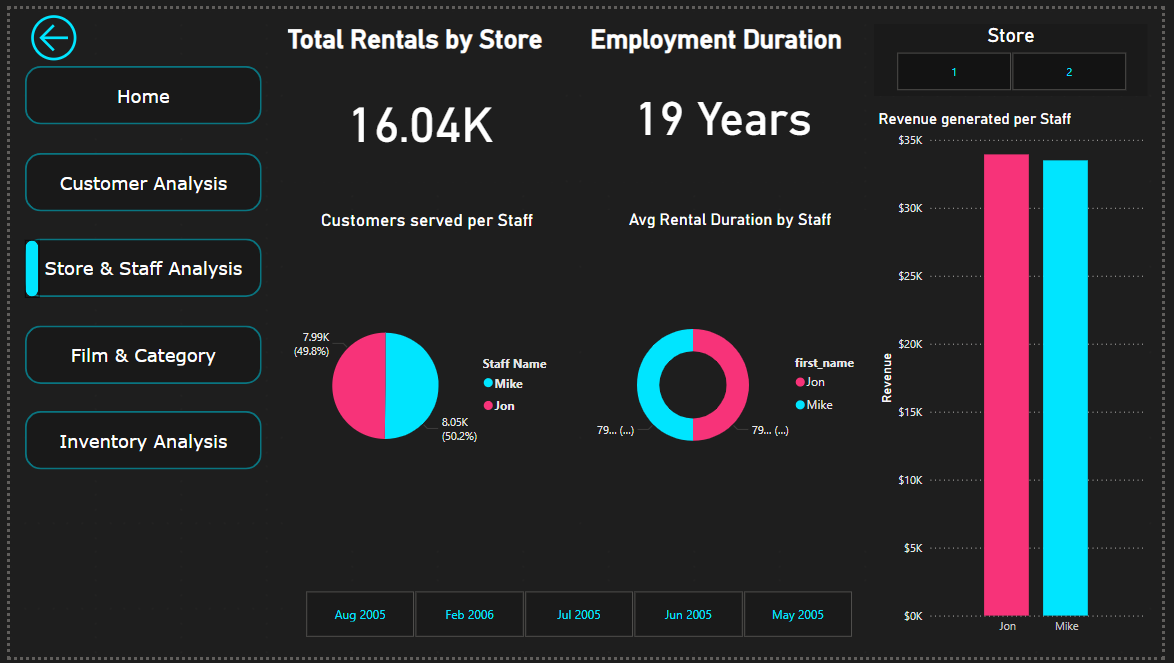

The dashboard page shown, as its layout file describes it:
{"tool":"powerbi","page":{"name":"Store & Staff  ","canvas":[1280,720],"ordinal":2},"visuals":[{"type":"kpi","title":"Employment Duration","fields":{"Indicator":["Sum(staff.EmploymentDurationYears)"],"TrendLine":["staff.staff_id"]},"box":[640,16,304,176],"z":0},{"type":"shape","box":[16,160,263,65],"z":0,"group":"g1"},{"type":"donutChart","title":"Avg Rental Duration by Staff","fields":{"Category":["staff.first_name"],"Y":["Sum(rental.AvgRentalDuration)"]},"box":[640,224,320,368],"z":1000},{"type":"shape","box":[16,256,263,65],"z":1000,"group":"g1"},{"type":"card","title":"Total Rentals by Store","fields":{"Values":["CountNonNull(payment.rental_id)"]},"box":[304,16,304,176],"z":2000},{"type":"shape","box":[16,352,263,65],"z":2000,"group":"g1"},{"type":"slicer","title":"Store","fields":{"Values":["store.store_id"]},"box":[960,16,304,80],"z":3000},{"type":"shape","box":[16,448,263,65],"z":3000,"group":"g1"},{"type":"shape","box":[16,64,263,65],"z":4000,"group":"g1"},{"type":"pieChart","title":"Customers served per Staff","fields":{"Category":["staff.first_name"],"Y":["CountNonNull(payment.rental_id)"]},"box":[304,224,320,368],"z":4000},{"type":"clusteredColumnChart","title":"Revenue generated per Staff","fields":{"Category":["staff.first_name"],"Y":["Sum(payment.amount)"]},"box":[960,112,304,592],"z":5000},{"type":"group","id":"g1","title":"Group 3","box":[16,64,263,449],"z":6000},{"type":"shape","box":[16,256,16,64],"z":7000},{"type":"slicer","fields":{"Values":["payment.PaymentMonth"]},"box":[304,640,656,64],"z":8000},{"type":"actionButton","box":[16,0,64,64],"z":9000}]}

Visuals, with their boxes in screenshot pixels (x1, y1, x2, y2), scaled from the page's 1280x720 canvas onto the 1174x663 screenshot:
"Employment Duration" kpi: [left=587, top=15, right=866, bottom=177]
shape: [left=15, top=147, right=256, bottom=207]
"Avg Rental Duration by Staff" donutChart: [left=587, top=206, right=880, bottom=545]
shape: [left=15, top=236, right=256, bottom=296]
"Total Rentals by Store" card: [left=279, top=15, right=558, bottom=177]
shape: [left=15, top=324, right=256, bottom=384]
"Store" slicer: [left=880, top=15, right=1159, bottom=88]
shape: [left=15, top=413, right=256, bottom=472]
shape: [left=15, top=59, right=256, bottom=119]
"Customers served per Staff" pieChart: [left=279, top=206, right=572, bottom=545]
"Revenue generated per Staff" clusteredColumnChart: [left=880, top=103, right=1159, bottom=648]
"Group 3" group: [left=15, top=59, right=256, bottom=472]
shape: [left=15, top=236, right=29, bottom=295]
slicer - payment.PaymentMonth: [left=279, top=589, right=880, bottom=648]
actionButton: [left=15, top=0, right=73, bottom=59]
